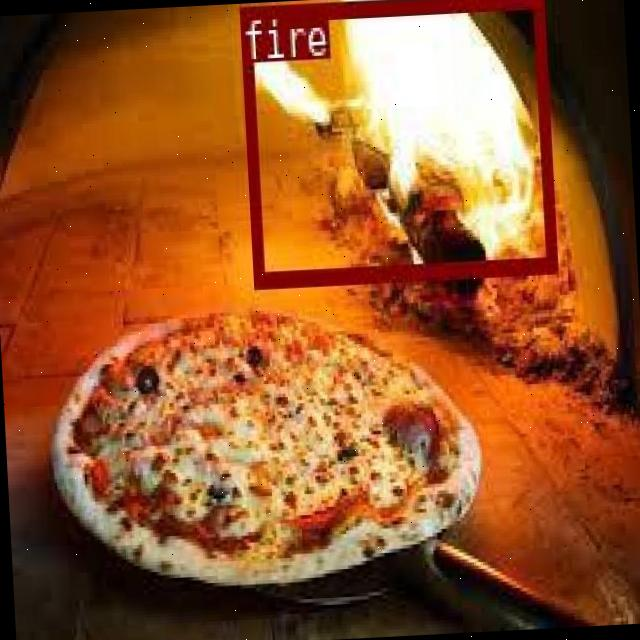fire: (239, 0, 555, 284)
